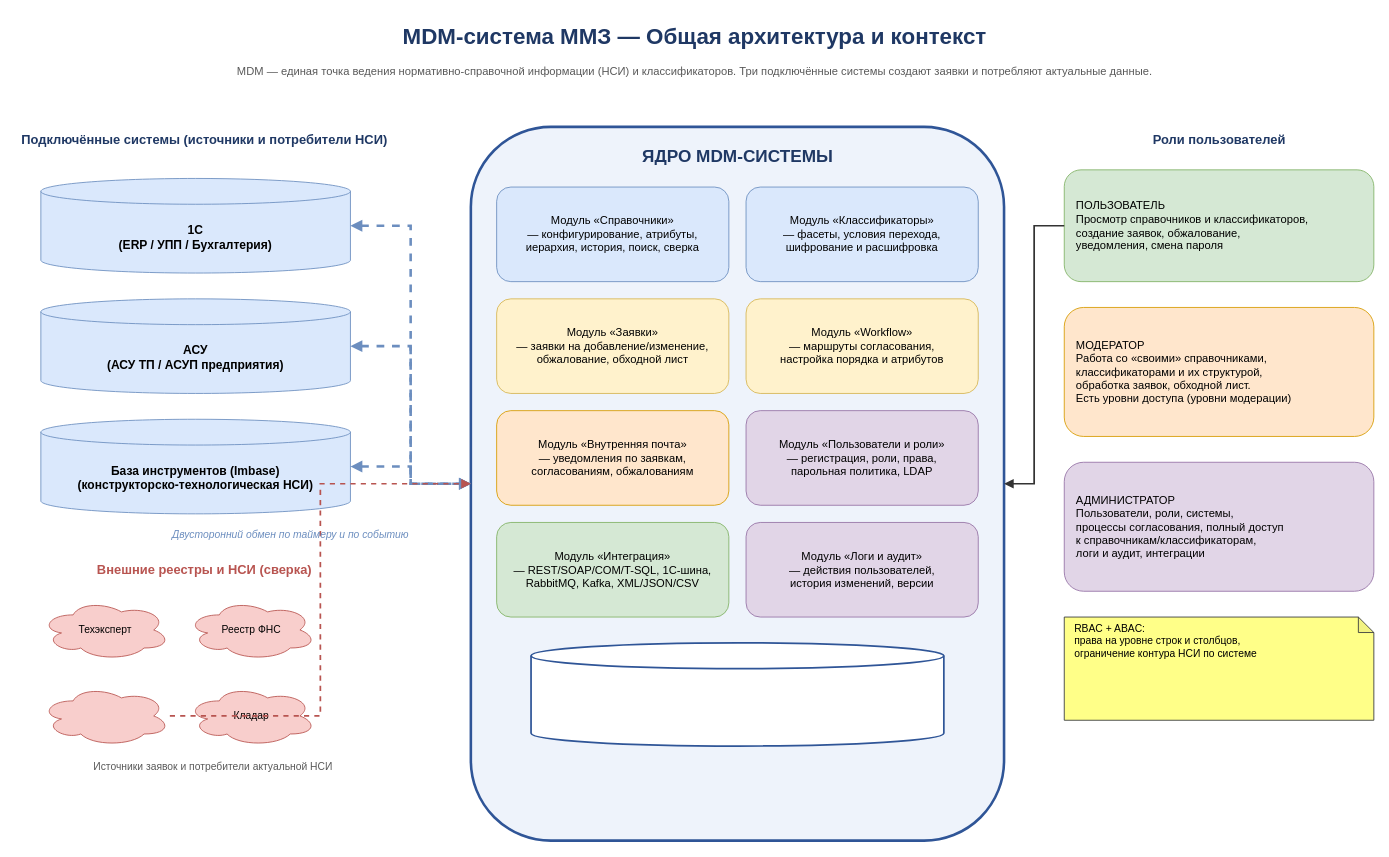
This 1389x857 diagram has some shape labels left out. Each missing label, with the centre of its shape:
"ФГИС «Аршин»" goes at point (105, 715).
"Хранилище НСИ (справочники • классификаторы • заявки • история • файлы BLOB)" goes at point (737, 694).
